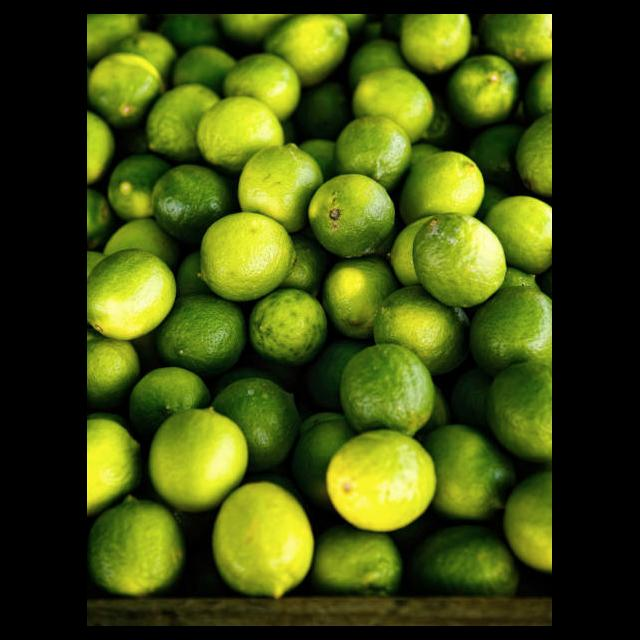lime: (326, 431, 436, 534), (148, 410, 250, 514), (198, 212, 296, 303), (88, 249, 176, 341)
